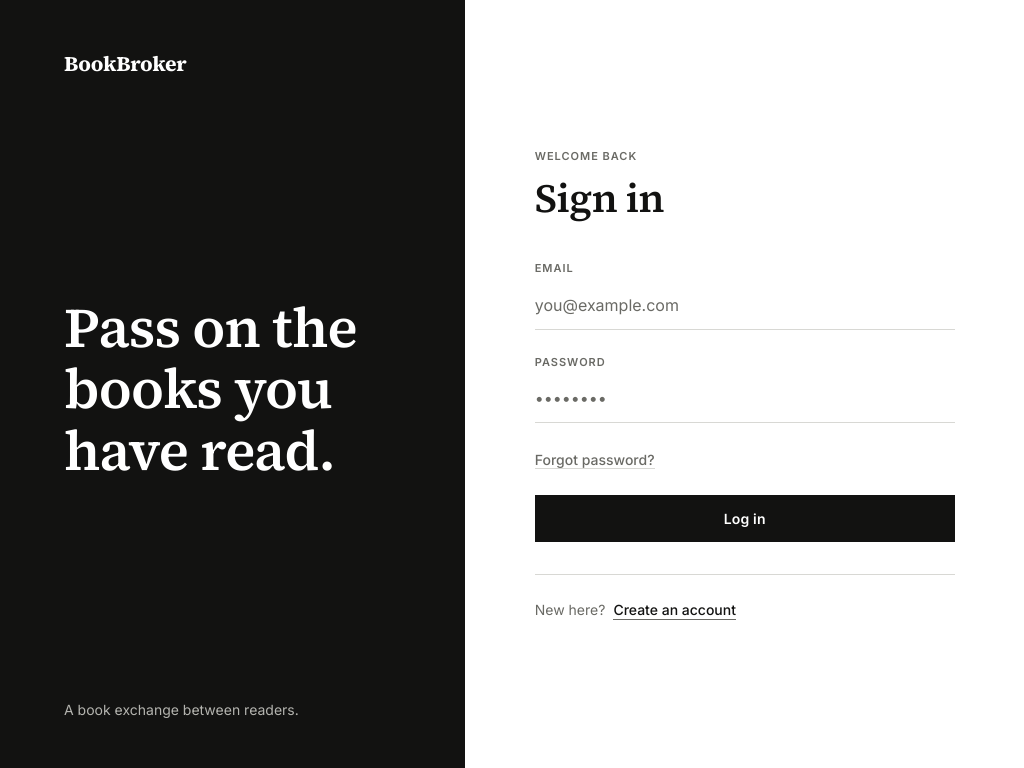
Scenario: offers to resend the confirmation email when the address is not confirmed
The image size is (1024, 768).
Type "reader@example.com" into the field labelled "Email" at (745, 305), box x1=535 y1=281 x2=955 y2=330
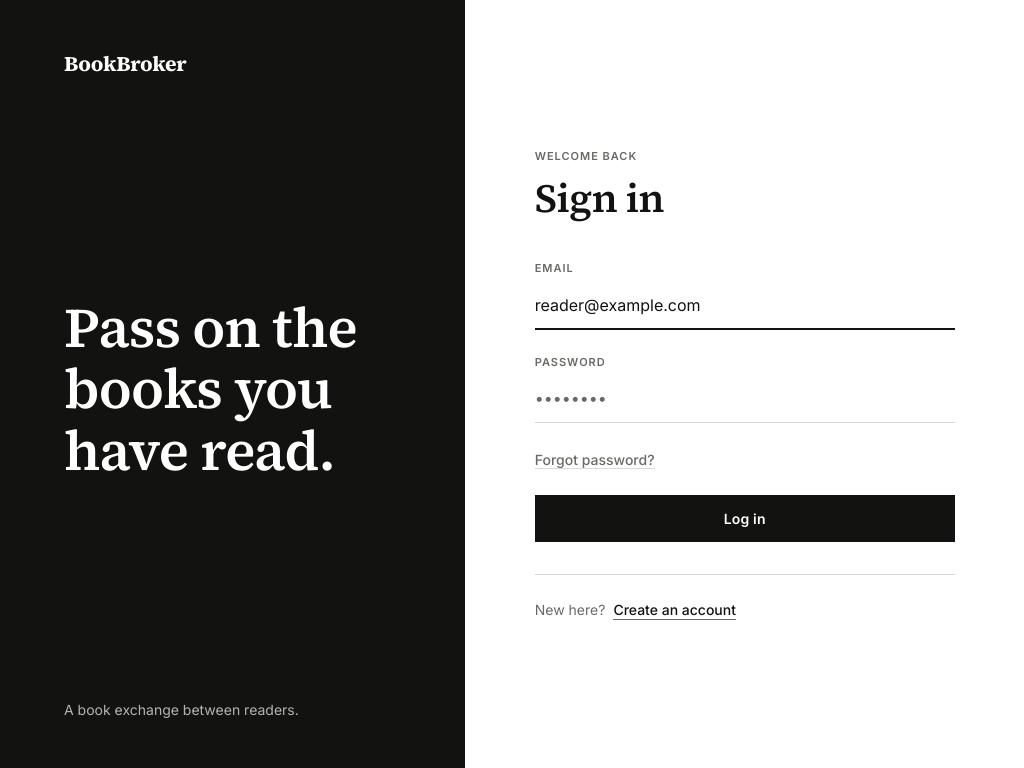
Type "hunter2" into the password field labelled "Password" at (745, 399), box x1=535 y1=374 x2=955 y2=423
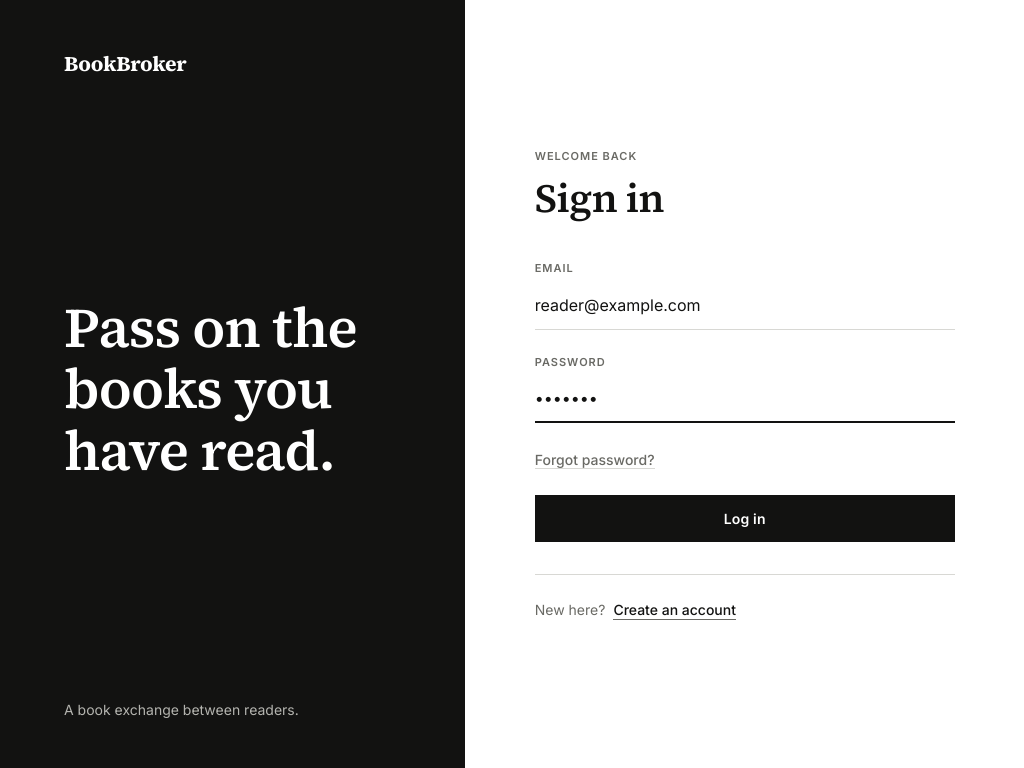
Click the button "Log in" at (745, 519), box x1=535 y1=495 x2=955 y2=542
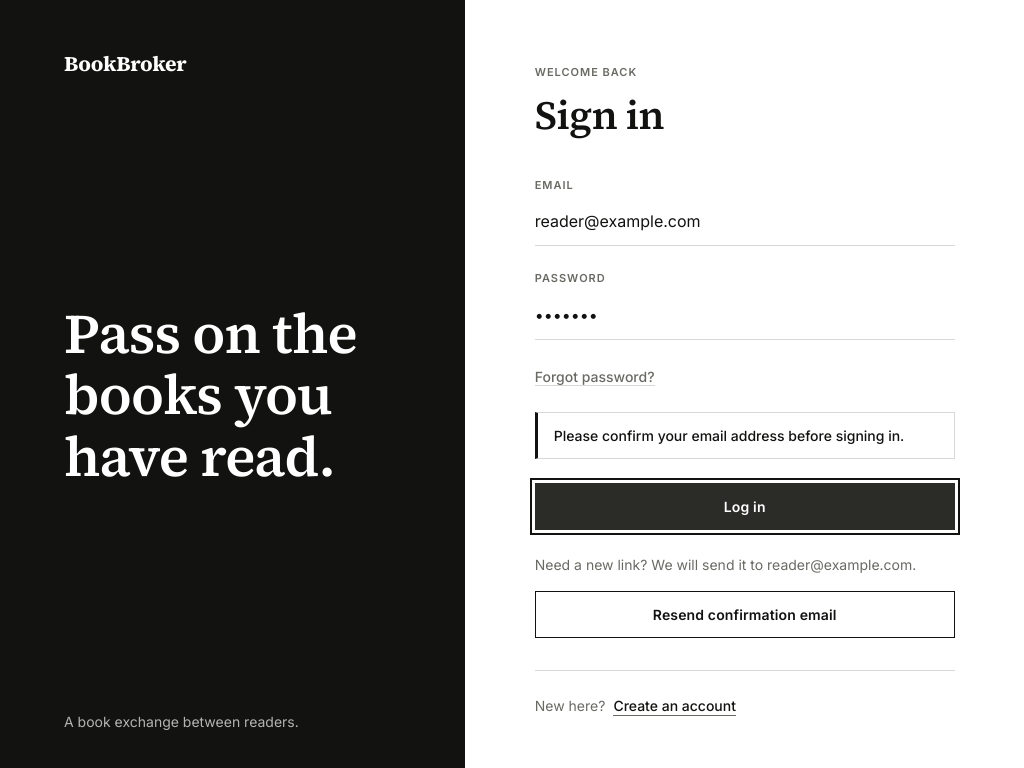
Expected: the text "Please confirm your email address before signing in." is shown, x1=535 y1=412 x2=955 y2=458
Click the button "Resend confirmation email" at (745, 614), box x1=535 y1=590 x2=955 y2=638
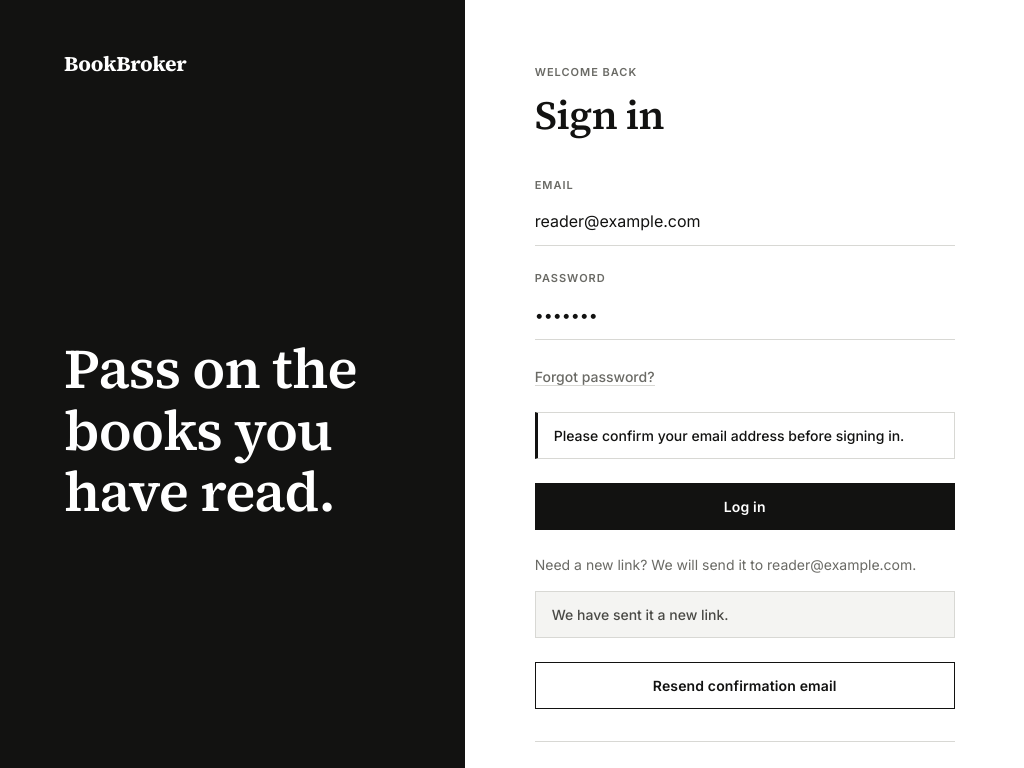
Expected: the text "We have sent it a new link." is shown, x1=535 y1=590 x2=955 y2=638
